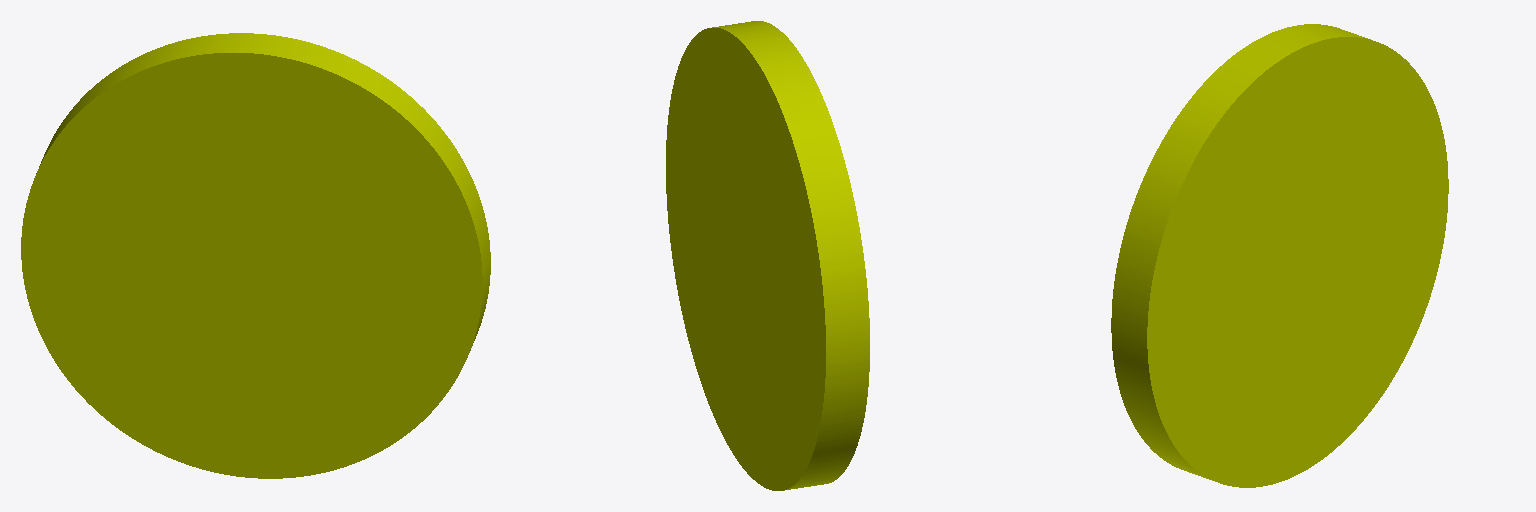
Rendered from coin3.obj.
3 renders of one model, left to right at view 1: azimuth 30°, elevation 25°; view 2: azimuth 150°, elevation 25°; view 3: azimuth 270°, elevation 25°, orthographic.
Parts seen in each view (by area): view 1: Cylinder_Cylinder.003; view 2: Cylinder_Cylinder.003; view 3: Cylinder_Cylinder.003.
Boxes of the visible parts, x1,y1,x2,y2 form: Cylinder_Cylinder.003: [21, 33, 490, 478]; Cylinder_Cylinder.003: [666, 21, 869, 490]; Cylinder_Cylinder.003: [1111, 24, 1448, 487].
Size of the model in its own units: 1.66 by 2 by 1.44.